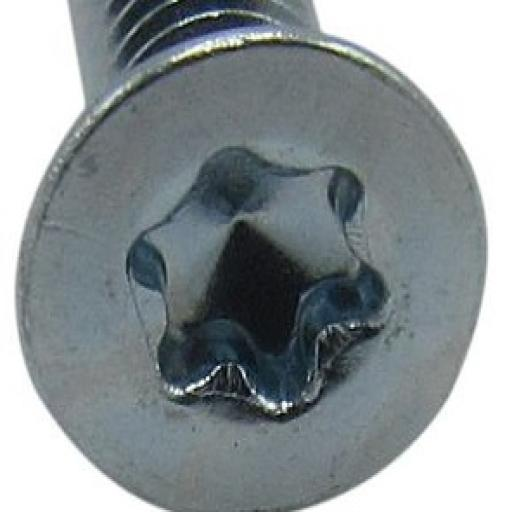Torx: (8, 12, 506, 512)
